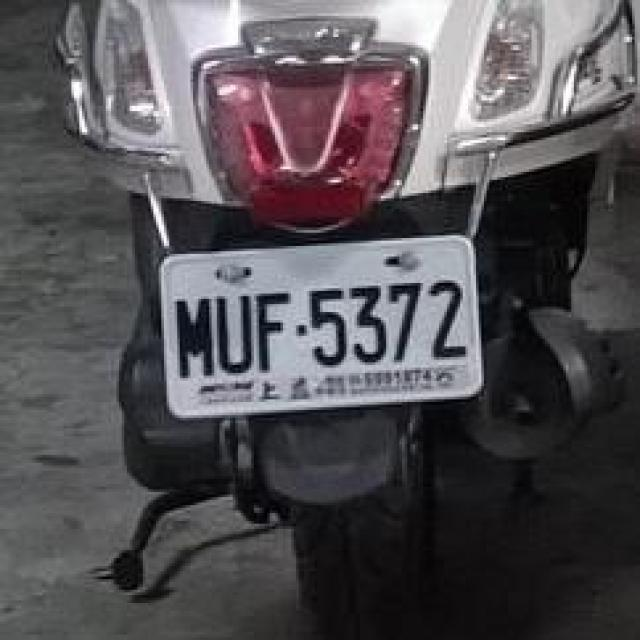W: (146, 222, 490, 426)
